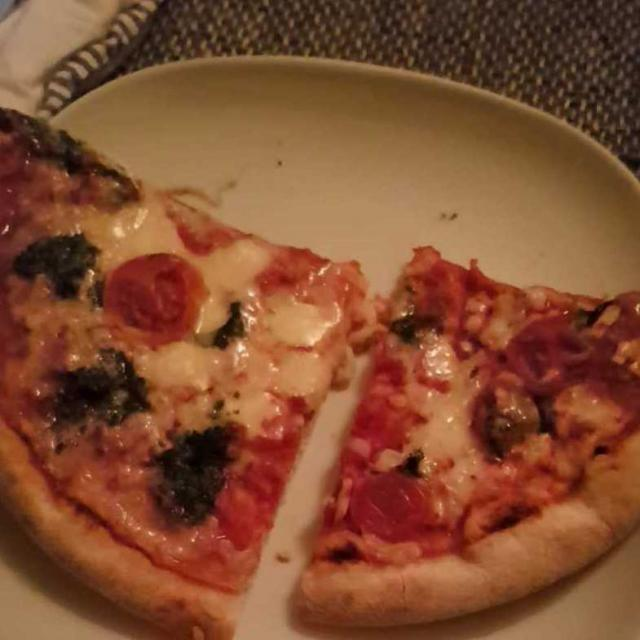pizza: (4, 117, 639, 639)
